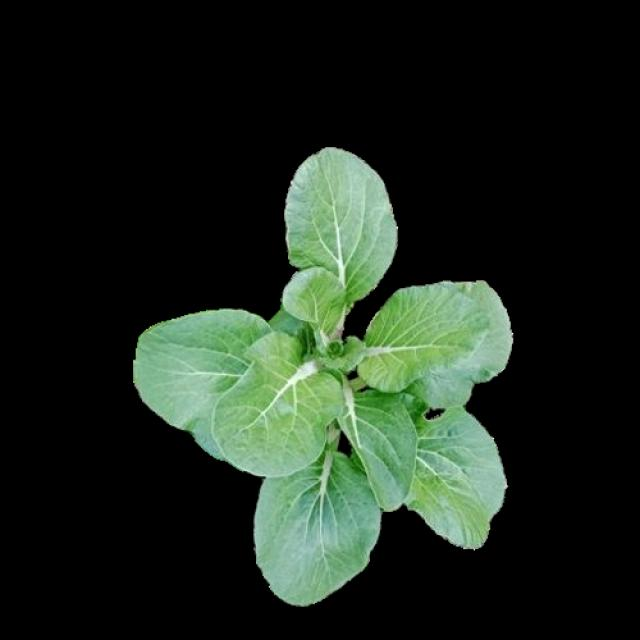healthy: (141, 164, 504, 600)
mature: (138, 148, 507, 603)
